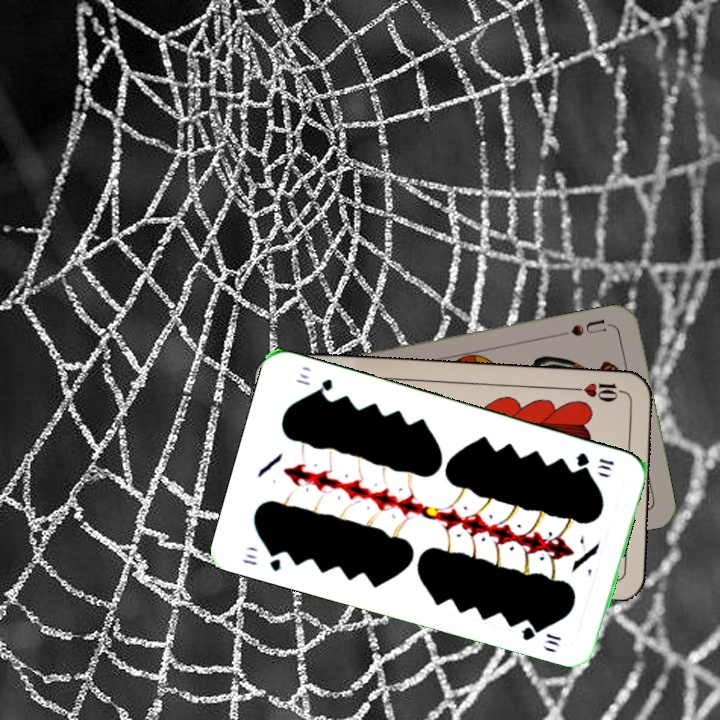G10: (238, 545, 284, 574), (572, 448, 617, 474)
H10: (569, 378, 628, 405)
SU: (557, 315, 616, 339)
